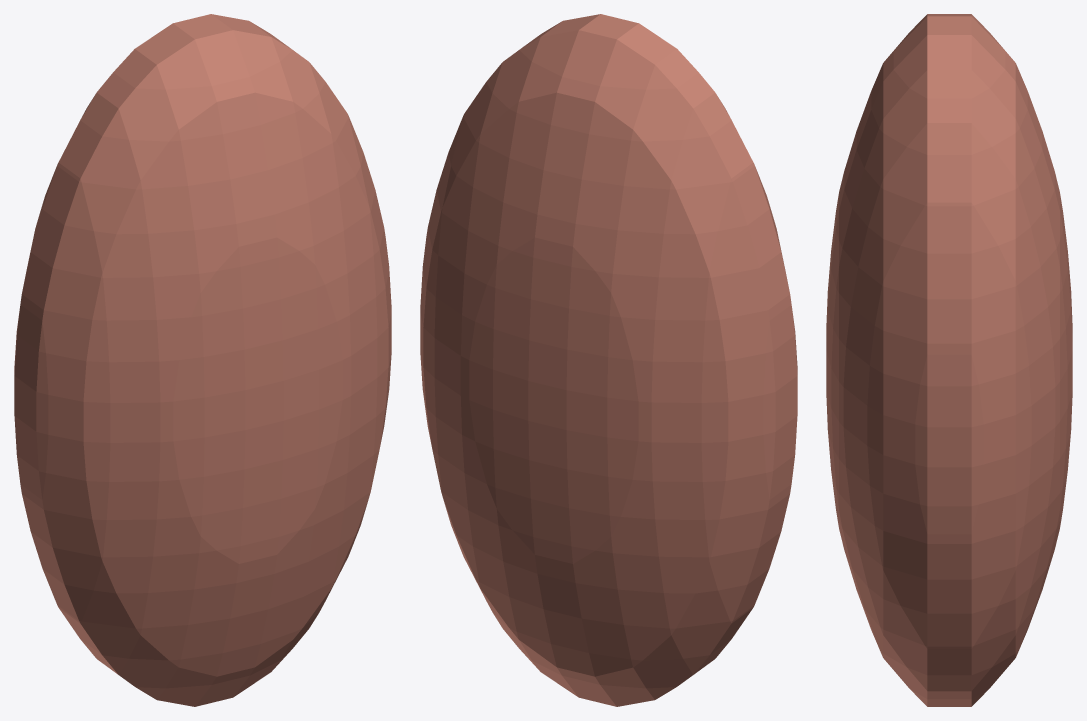
The model's file is scan-mesh.glb.
3 views of the same model, side by side, from view 1: azimuth 30°, elevation 25°; view 2: azimuth 150°, elevation 25°; view 3: azimuth 270°, elevation 25° (orthographic).
Parts seen in each view (by area): view 1: world; view 2: world; view 3: world.
Boxes of the visible parts, bbox=[...] form: world: bbox=[14, 14, 391, 706]; world: bbox=[420, 14, 797, 706]; world: bbox=[826, 14, 1072, 706].
Bounding box in the file's own units: 0.8524 × 1.53 × 0.5115.
